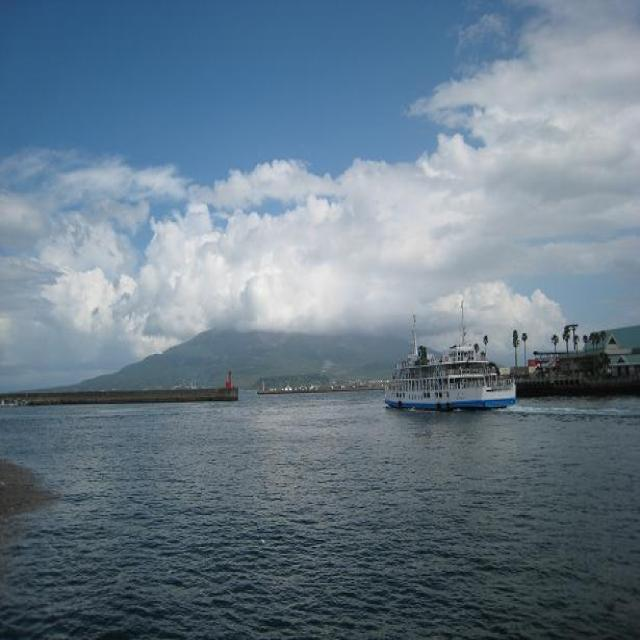passenger ship: (389, 314, 530, 420)
